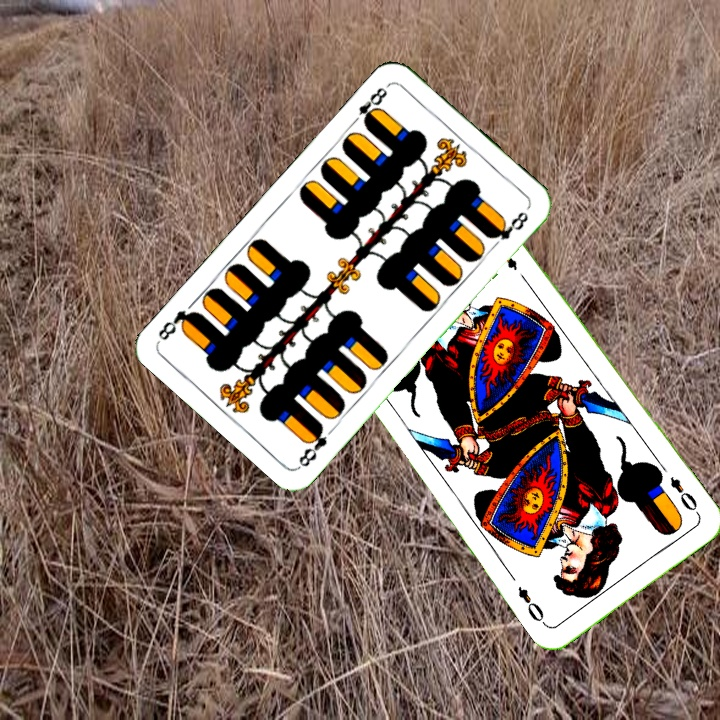E8: (347, 83, 390, 129), (294, 420, 330, 470)
EO: (666, 472, 702, 518)
